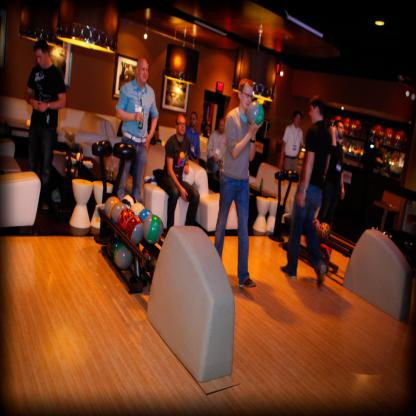Ball: (106, 198, 165, 244), (112, 242, 134, 268), (107, 235, 122, 256), (318, 221, 332, 240), (312, 220, 320, 233)
